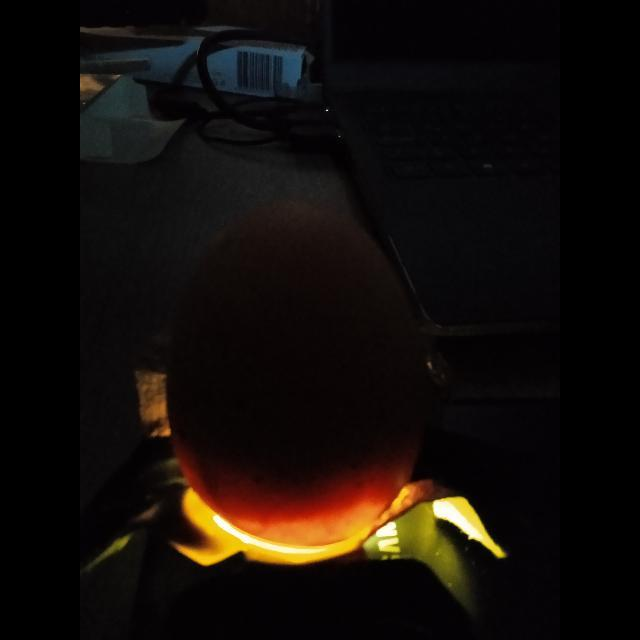Fertile: (167, 207, 429, 556)
